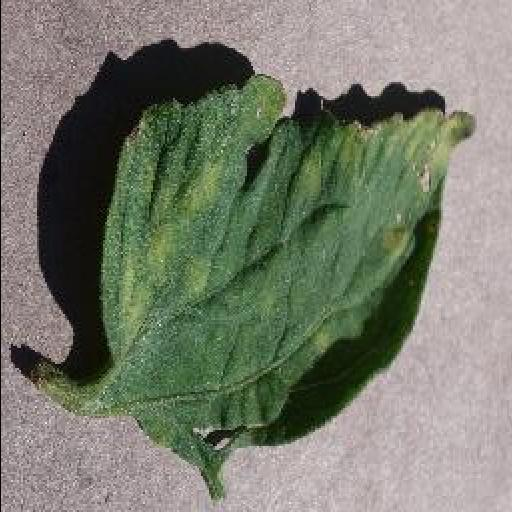disease_tomato: (100, 71, 476, 500)
